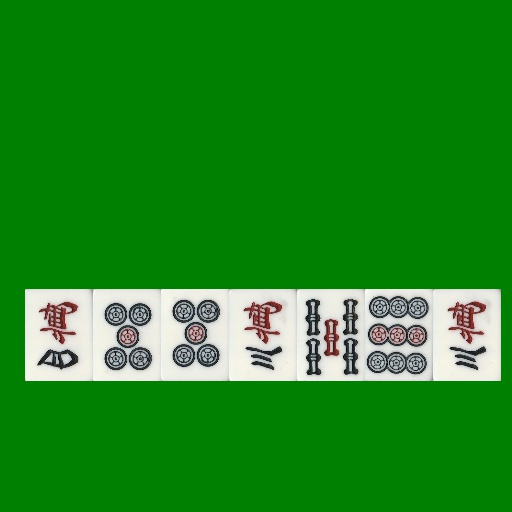3m: (229, 289, 297, 381), (433, 289, 501, 381)
4m: (25, 289, 93, 381)
5p: (93, 289, 161, 381), (161, 289, 229, 381)
5s: (297, 289, 365, 381)
9p: (365, 289, 433, 381)
